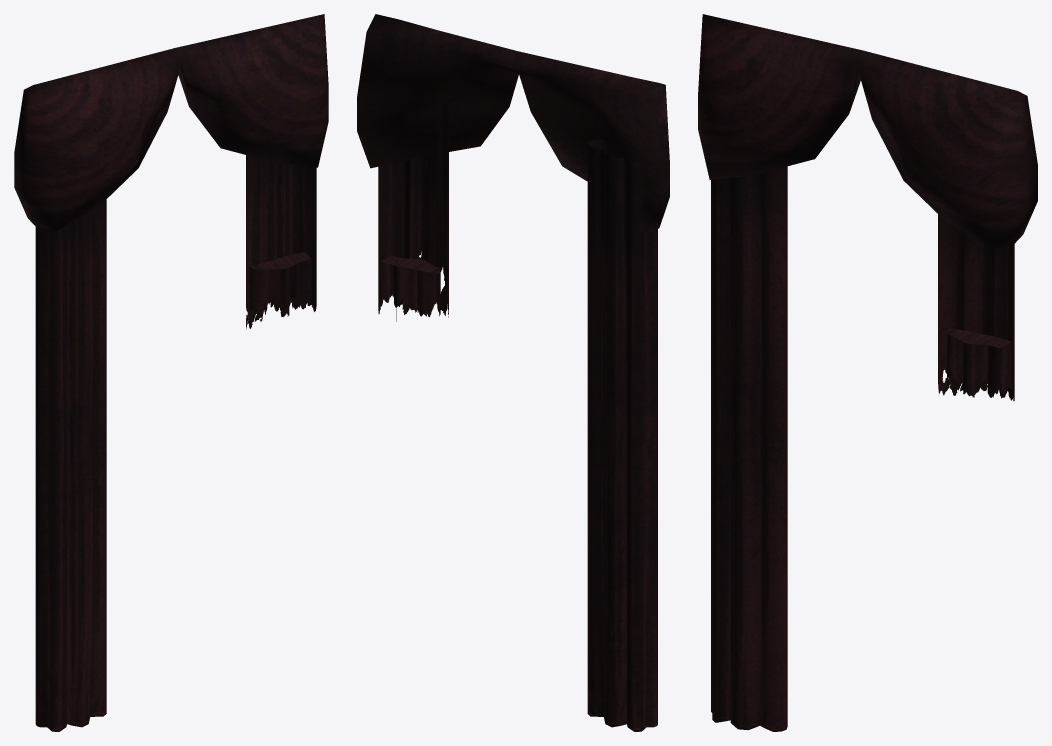
File: 42_curtain02_long_broken02.dae
3 renders of one model, left to right at view 1: azimuth 30°, elevation 25°; view 2: azimuth 150°, elevation 25°; view 3: azimuth 330°, elevation 25°, orthographic. The views are drawn at different scales.
Visible parts, largest first — view 1: polySurface198, polySurface193, polySurface192; view 2: polySurface198, polySurface193, polySurface192; view 3: polySurface198, polySurface193, polySurface192.
Part boxes in pixels (left/top/right/bottom): polySurface198: left=14, top=14, right=328, bottom=731; polySurface193: left=246, top=155, right=316, bottom=329; polySurface192: left=249, top=252, right=311, bottom=317; polySurface198: left=357, top=14, right=669, bottom=731; polySurface193: left=378, top=100, right=448, bottom=321; polySurface192: left=381, top=255, right=440, bottom=317; polySurface198: left=698, top=14, right=1037, bottom=731; polySurface193: left=938, top=214, right=1014, bottom=401; polySurface192: left=947, top=328, right=1011, bottom=397.
Size of what is drawn, in the model's own units: 2.5 by 5.08 by 0.4673.
